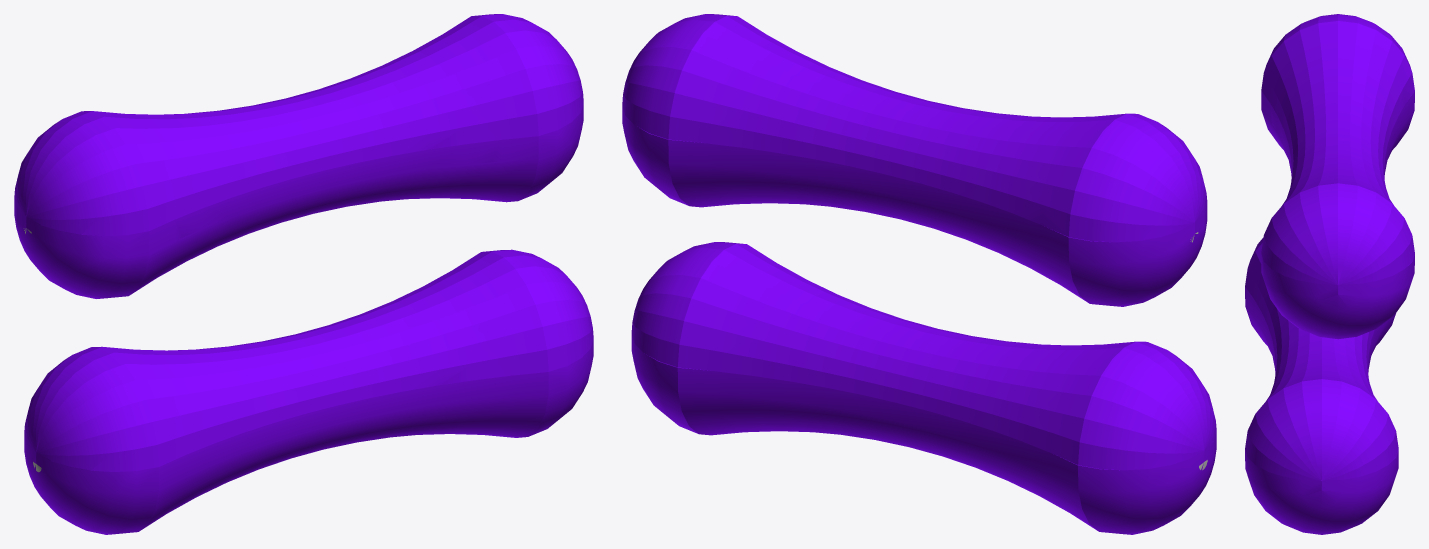
File: 7Orbital_Pi.glb
3 views of the same model, side by side, from view 1: azimuth 30°, elevation 25°; view 2: azimuth 150°, elevation 25°; view 3: azimuth 270°, elevation 25° (orthographic). The views are drawn at different scales.
Visible parts, largest first — view 1: root; view 2: root; view 3: root.
Boxes of the visible parts, left/top/right/bottom form: root: left=14, top=14, right=593, bottom=534; root: left=622, top=14, right=1216, bottom=534; root: left=1245, top=14, right=1414, bottom=534.
Size of the model in its own units: 1.44 by 1.02 by 0.454.
